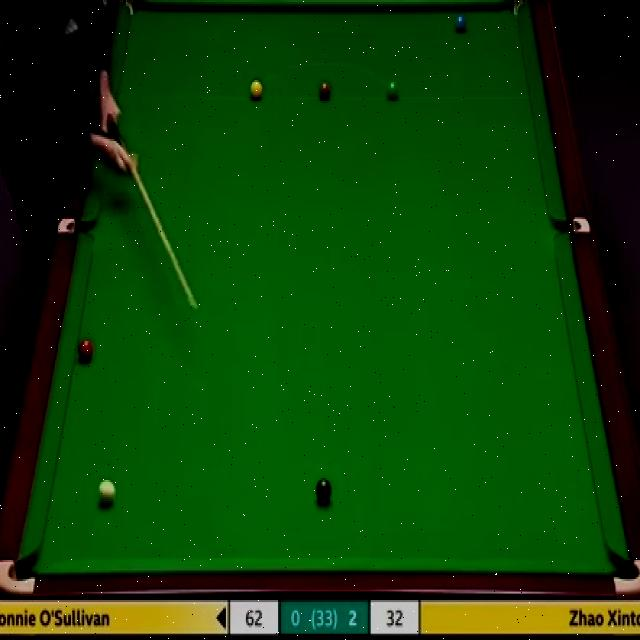black-ball: (314, 476, 332, 504)
blue-ball: (453, 13, 468, 32)
brown-ball: (317, 78, 332, 101)
green-ball: (384, 80, 399, 101)
red-ball: (77, 338, 94, 363)
white-ball: (97, 477, 115, 508)
yellow-ball: (249, 78, 263, 100)
